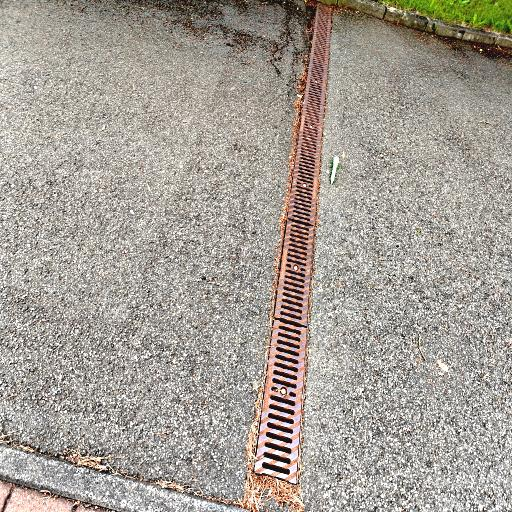Probe-Detection: (330, 156, 339, 184)
